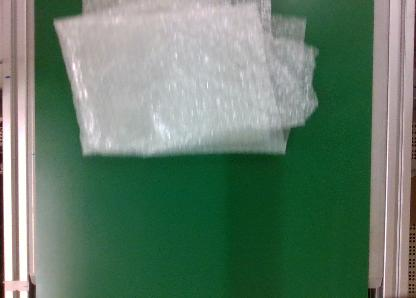Others: (49, 1, 318, 160)
